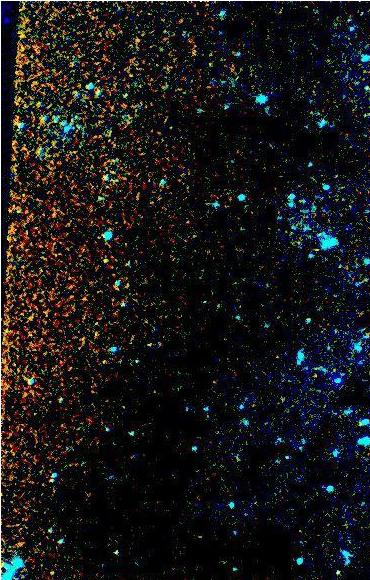star: (89, 243, 119, 273)
